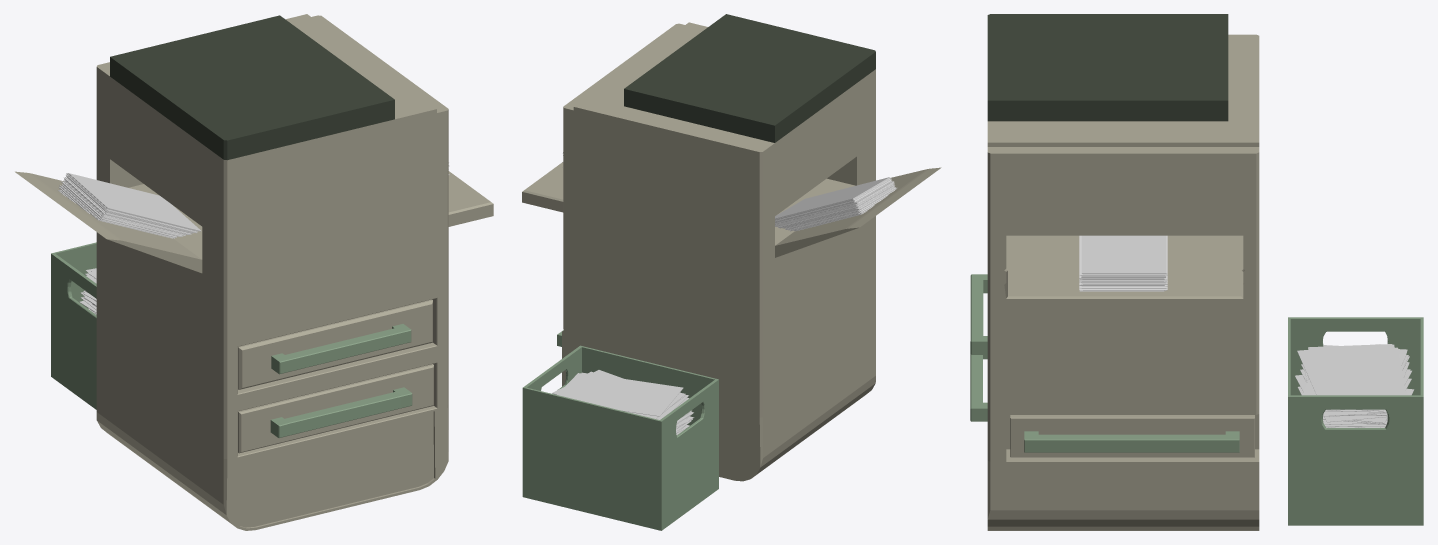
File: impressora.fbx
3 views of the same model, side by side, from view 1: azimuth 30°, elevation 25°; view 2: azimuth 150°, elevation 25°; view 3: azimuth 270°, elevation 25° (orthographic). The views are drawn at different scales.
Parts seen in each view (by area): view 1: Plane, Plane.101, Plane.100; view 2: Plane, Plane.101, Plane.303, Plane.100; view 3: Plane, Plane.101, Plane.303, Plane.001.
Boxes of the visible parts, x1,y1,x2,y2 form: Plane: (15, 14, 493, 530); Plane.101: (51, 242, 96, 409); Plane.100: (68, 173, 201, 231); Plane: (522, 14, 941, 481); Plane.101: (522, 345, 718, 530); Plane.303: (562, 372, 683, 416); Plane.100: (775, 177, 889, 218); Plane: (970, 14, 1259, 530); Plane.101: (1288, 317, 1423, 525); Plane.303: (1297, 344, 1402, 395); Plane.001: (1081, 235, 1166, 273).
Size of the model in its own units: 664 by 677 by 668.
